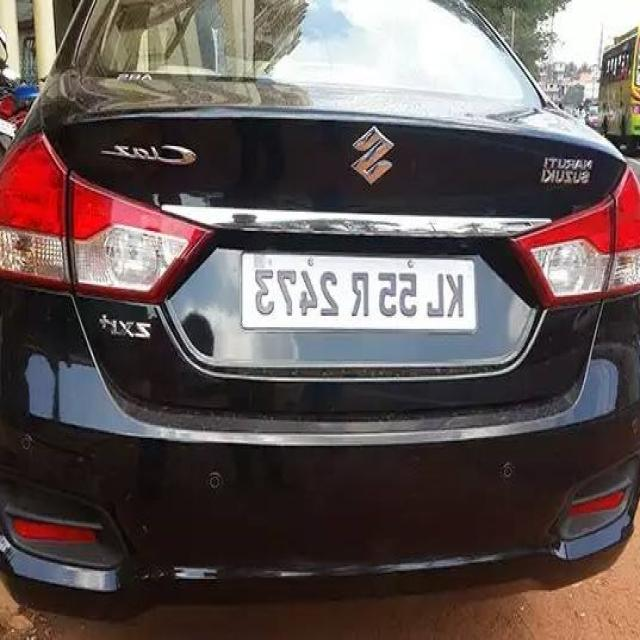number-plate: (234, 259, 476, 335)
